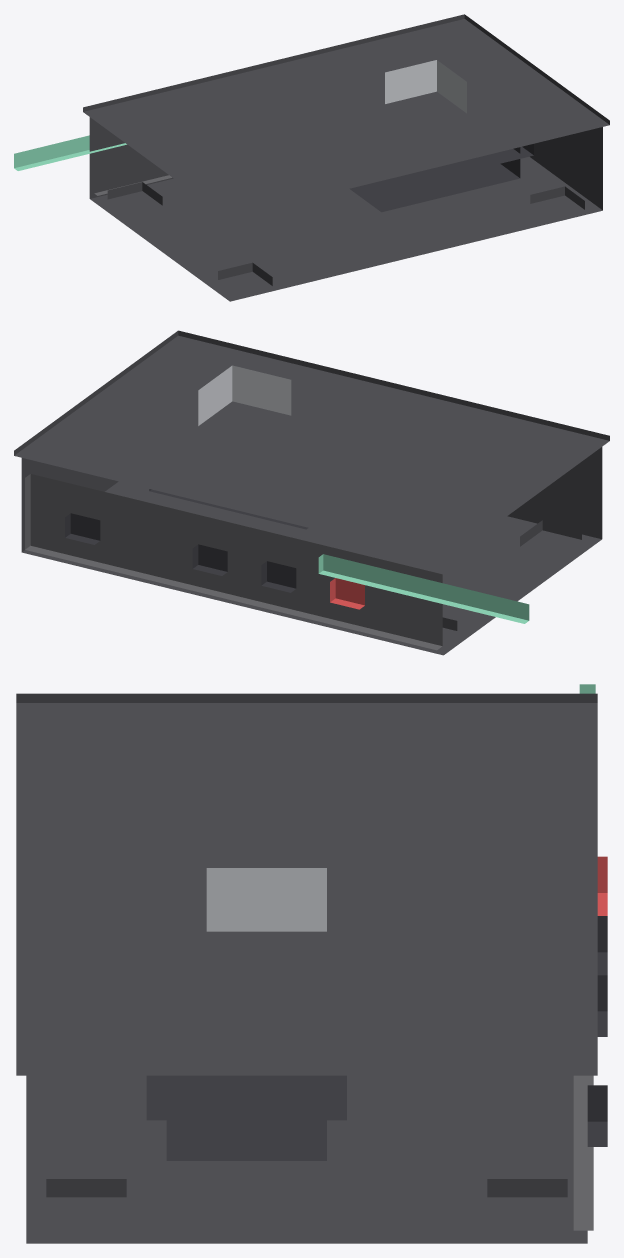
File: whole.gltf
3 views of the same model, one above another, from view 1: azimuth 30°, elevation 25°; view 2: azimuth 150°, elevation 25°; view 3: azimuth 270°, elevation 25° (orthographic). The views are drawn at different scales.
Parts seen in each view (by area): view 1: whole; view 2: whole; view 3: whole.
Boxes of the visible parts, bbox=[...] form: whole: bbox=[14, 14, 609, 301]; whole: bbox=[14, 330, 609, 655]; whole: bbox=[16, 684, 607, 1243].
Size of the model in its own units: 0.52 by 0.13 by 0.295.
